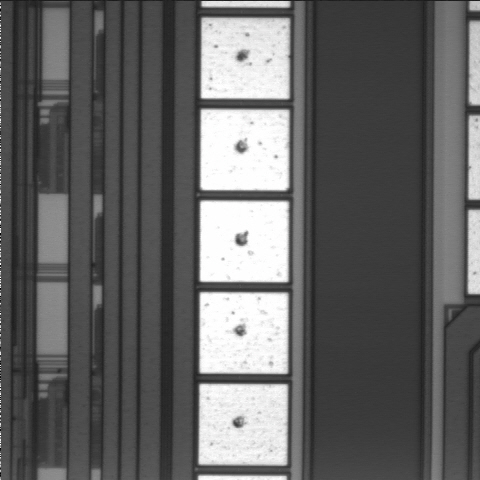pad: (200, 109, 289, 191), (200, 292, 288, 374), (201, 18, 290, 99), (200, 201, 289, 282), (199, 384, 288, 465)
